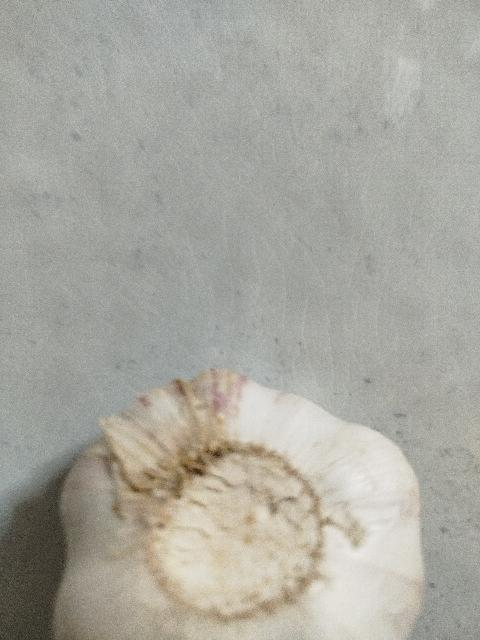garlic: (52, 367, 424, 639)
